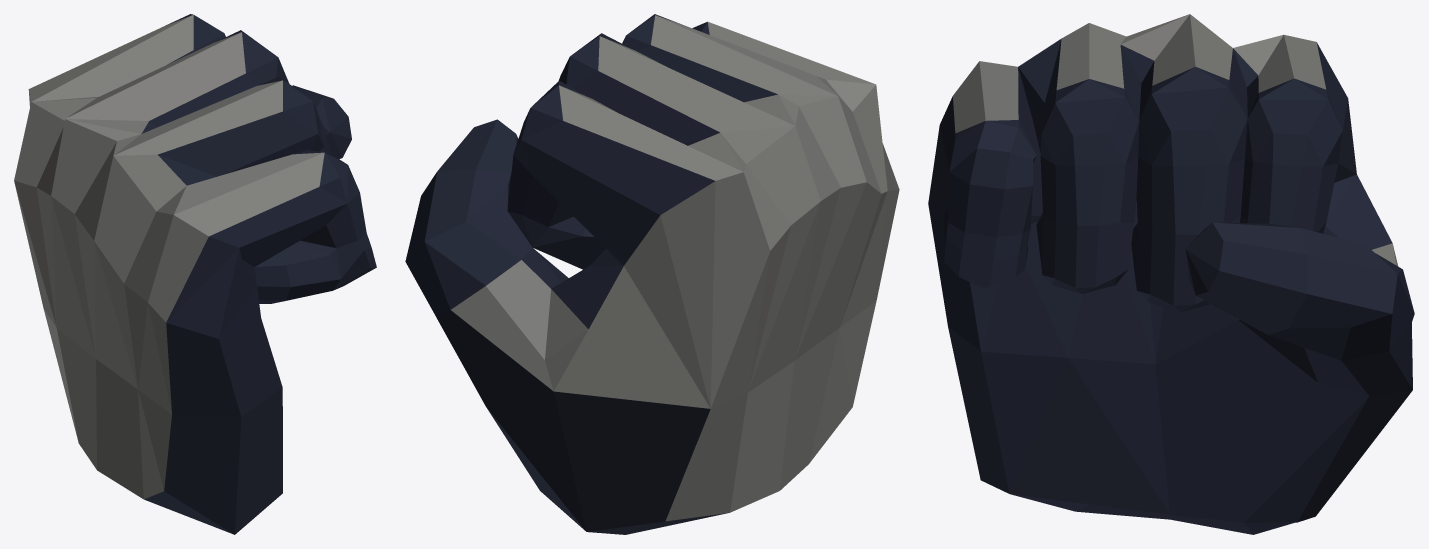
Rendered from Hand_Closed.fbx.
The picture shows the model from 3 angles, left to right: view 1: azimuth 30°, elevation 25°; view 2: azimuth 150°, elevation 25°; view 3: azimuth 270°, elevation 25°; orthographic projection. The views are drawn at different scales.
Visible parts, largest first — view 1: closed; view 2: closed; view 3: closed.
Boxes of the visible parts, x1,y1,x2,y2 form: closed: (14, 14, 376, 534); closed: (405, 14, 899, 534); closed: (928, 14, 1414, 534).
Size of the model in its own units: 157 by 206 by 183.
